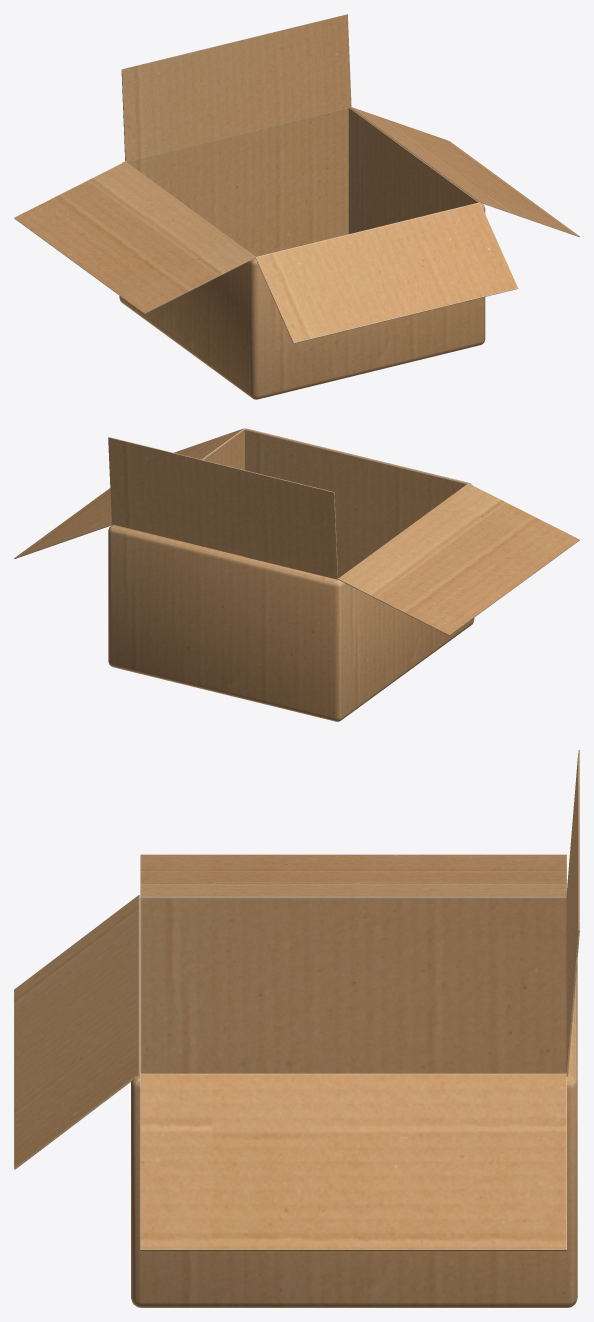
File: CardboardBox.fbx
The picture shows the model from 3 angles, top to bottom: view 1: azimuth 30°, elevation 25°; view 2: azimuth 150°, elevation 25°; view 3: azimuth 270°, elevation 25°; orthographic projection. The views are drawn at different scales.
Parts seen in each view (by area): view 1: Cardboard_Box; view 2: Cardboard_Box; view 3: Cardboard_Box.
Part boxes in pixels (<box>): Cardboard_Box: <box>14,14,579,399</box>; Cardboard_Box: <box>14,428,579,721</box>; Cardboard_Box: <box>14,750,579,1307</box>.
Size of the model in its own units: 81.33 by 41.35 by 56.
Materials: 1 (1 with a texture image).
